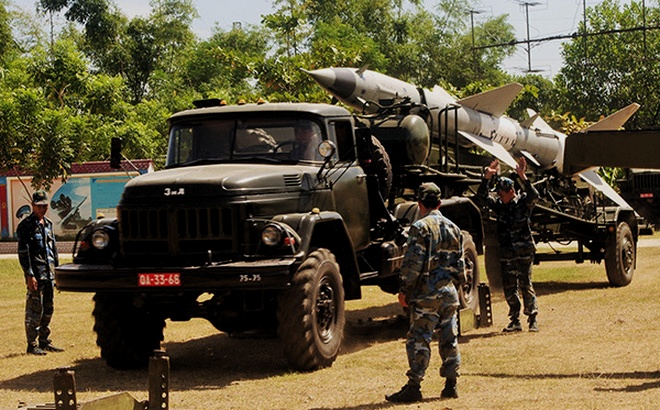plate: (136, 267, 181, 286)
